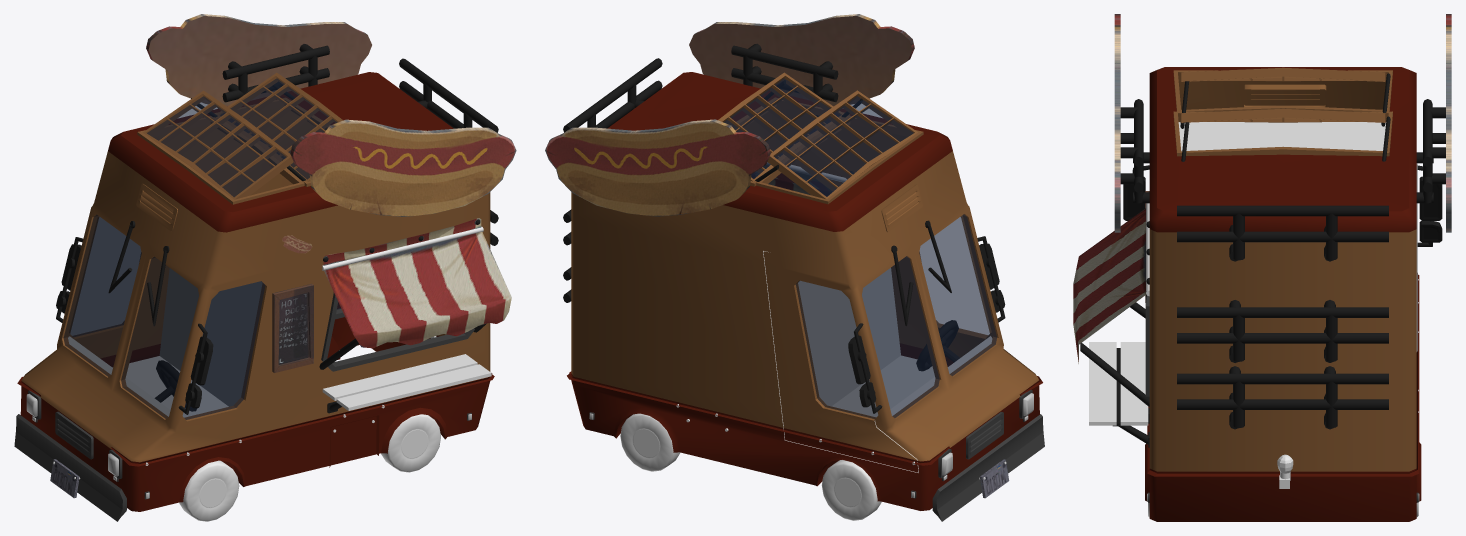
Rendered from Van.FBX.
The picture shows the model from 3 angles, left to right: view 1: azimuth 30°, elevation 25°; view 2: azimuth 150°, elevation 25°; view 3: azimuth 270°, elevation 25°; orthographic projection. The views are drawn at different scales.
Visible parts, largest first — view 1: Plane002, Plane004, Object021, Object009, Plane005, Plane006, Object015, Object014, Object001, Plane003, Object017, Object016 (+18 smaller); view 2: Plane002, Object021, Plane004, Object009, Plane006, Object015, Object014, Object001, Object017, Object016, Cylinder005, Cylinder006 (+11 smaller); view 3: Plane002, Object021, Plane005, Object020, Object018, Plane006, Object019, Cylinder014, Plane004, Object016, Object014, Object029 (+8 smaller).
Part boxes in pixels (left/top/right/bottom): Plane002: left=21, top=107, right=490, bottom=462; Plane004: left=146, top=14, right=516, bottom=216; Object021: left=20, top=72, right=490, bottom=511; Object009: left=63, top=214, right=265, bottom=419; Plane005: left=323, top=218, right=511, bottom=348; Plane006: left=68, top=268, right=262, bottom=417; Object015: left=147, top=96, right=286, bottom=196; Object014: left=142, top=90, right=293, bottom=199; Object001: left=14, top=414, right=126, bottom=521; Plane003: left=272, top=283, right=313, bottom=372; Object017: left=220, top=78, right=337, bottom=179; Object016: left=216, top=72, right=343, bottom=181; Plane002: left=571, top=106, right=1038, bottom=461; Object021: left=571, top=72, right=1039, bottom=510; Plane004: left=545, top=14, right=914, bottom=216; Object009: left=796, top=214, right=996, bottom=418; Plane006: left=763, top=251, right=991, bottom=472; Object015: left=774, top=96, right=913, bottom=196; Object014: left=767, top=90, right=917, bottom=199; Object001: left=932, top=414, right=1044, bottom=521; Object017: left=723, top=78, right=840, bottom=178; Object016: left=718, top=72, right=843, bottom=181; Cylinder005: left=821, top=460, right=881, bottom=520; Cylinder006: left=620, top=413, right=680, bottom=471; Plane002: left=1149, top=81, right=1416, bottom=471; Object021: left=1145, top=67, right=1421, bottom=521; Plane005: left=1073, top=208, right=1146, bottom=363; Object020: left=1177, top=205, right=1388, bottom=261; Object018: left=1177, top=366, right=1388, bottom=429; Plane006: left=1178, top=122, right=1417, bottom=351; Object019: left=1177, top=300, right=1388, bottom=362; Cylinder014: left=1120, top=99, right=1445, bottom=203; Plane004: left=1114, top=14, right=1451, bottom=232; Object016: left=1178, top=108, right=1388, bottom=122; Object014: left=1178, top=67, right=1388, bottom=81; Object029: left=1147, top=273, right=1419, bottom=476.
Bounding box in the file's own units: 60.98 × 56.95 × 44.69.
Materials: 9 (2 with a texture image).
